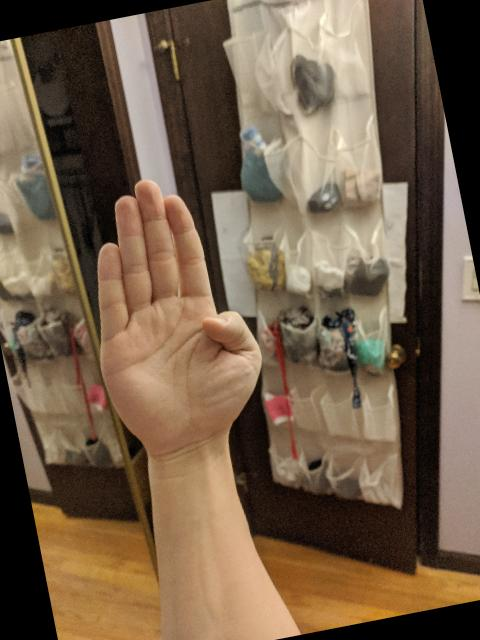B: (61, 158, 281, 466)
